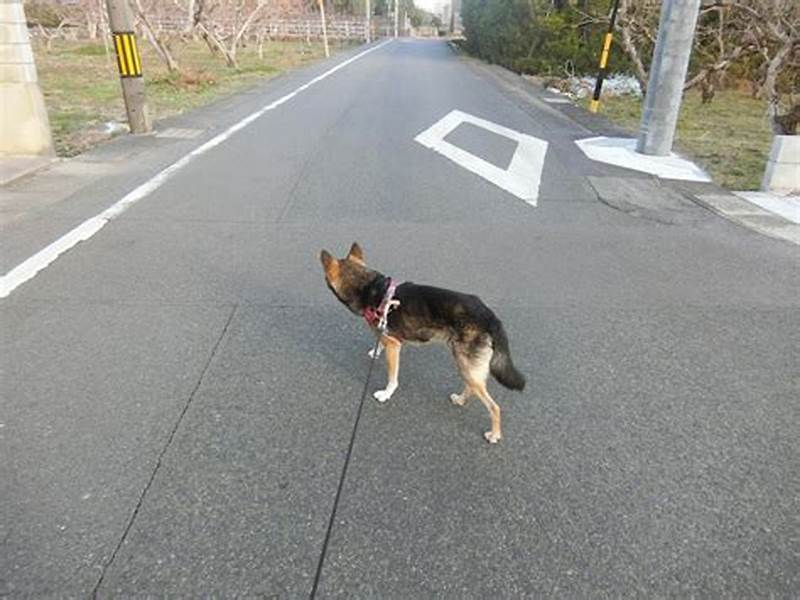kopek: (308, 235, 524, 461)
